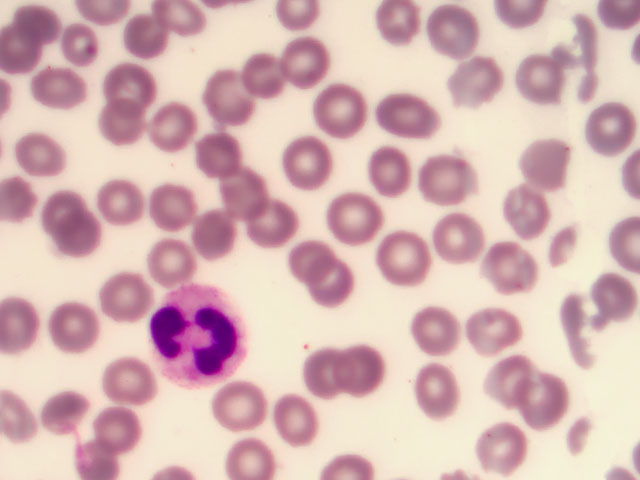RBC: (56, 18, 105, 67), (32, 63, 81, 112), (106, 60, 155, 109), (99, 91, 148, 140), (150, 104, 199, 153), (210, 71, 259, 120), (230, 51, 279, 100), (275, 39, 324, 88), (317, 83, 366, 132), (276, 137, 325, 186), (197, 132, 246, 181), (219, 166, 268, 215), (194, 206, 243, 255), (148, 239, 197, 288), (148, 183, 197, 232), (97, 173, 146, 222), (59, 208, 108, 257), (42, 186, 91, 235), (14, 124, 63, 173), (49, 301, 98, 350), (102, 271, 151, 320), (278, 237, 327, 286), (248, 206, 297, 255), (329, 194, 378, 243), (376, 137, 425, 186), (391, 92, 440, 141), (452, 52, 501, 101), (440, 11, 489, 60), (525, 56, 574, 105), (586, 114, 635, 163), (520, 148, 569, 197), (503, 187, 552, 236), (485, 247, 534, 296), (436, 217, 485, 266), (378, 233, 427, 282), (403, 309, 452, 358), (463, 315, 512, 364), (549, 302, 598, 351), (590, 267, 639, 316), (513, 376, 562, 425), (489, 357, 538, 406), (401, 364, 450, 413), (323, 339, 372, 388), (302, 353, 351, 402), (259, 396, 308, 445), (220, 383, 269, 432), (220, 431, 269, 480), (99, 352, 148, 401), (94, 398, 143, 447), (60, 431, 109, 480), (43, 388, 92, 437), (1, 24, 49, 73)
WBC: (151, 281, 240, 381)
